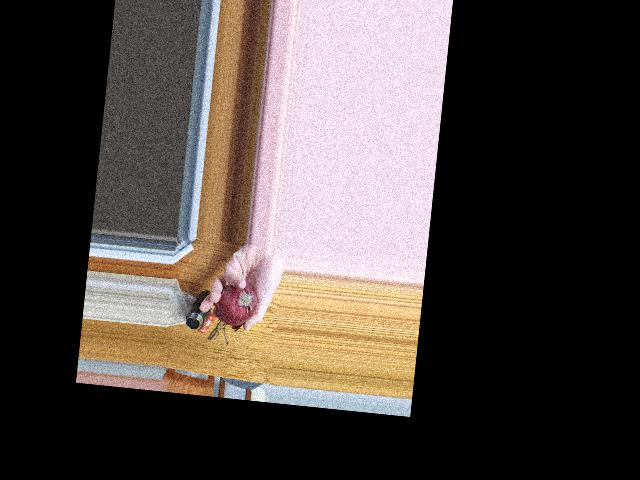onion: (218, 278, 261, 326)
